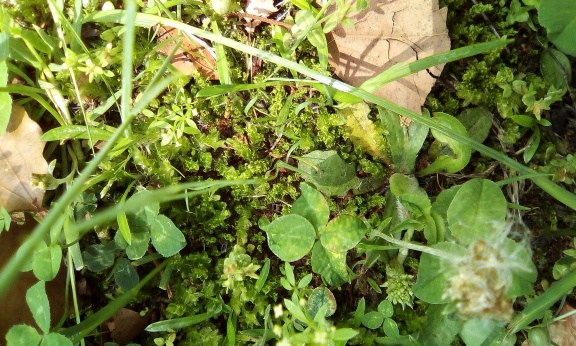4leaf: (264, 180, 367, 287)
